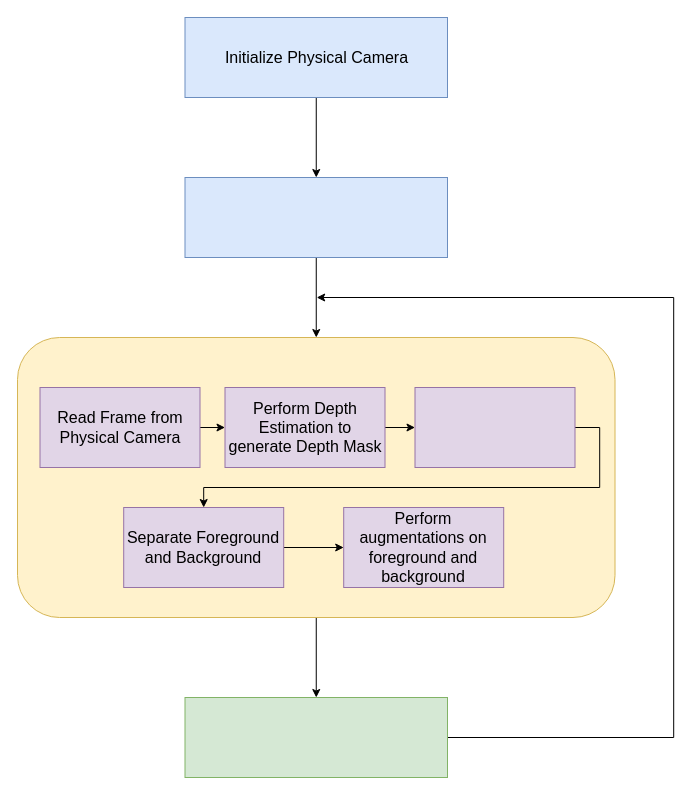
The diagram is 700 pixels wide and 795 high, and some of its shapes have lost their labels. The shapes that lost their labels are listed below. From the top down, each one's box as (x1, y1, x2, y2) in pixels, then its label:
(184, 176, 448, 258): Create Virtual Camera with OBS
(414, 386, 575, 468): Use depth mask with extract foreground
(184, 696, 448, 778): Send Augmented Image to Virtual Camera
